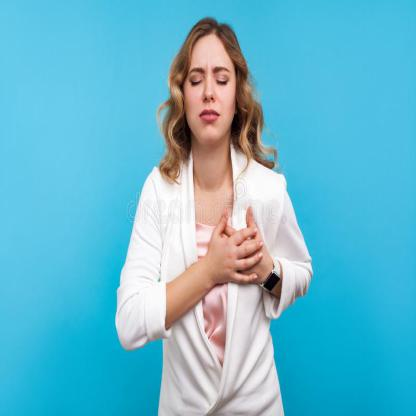pain: (183, 65, 236, 91)
